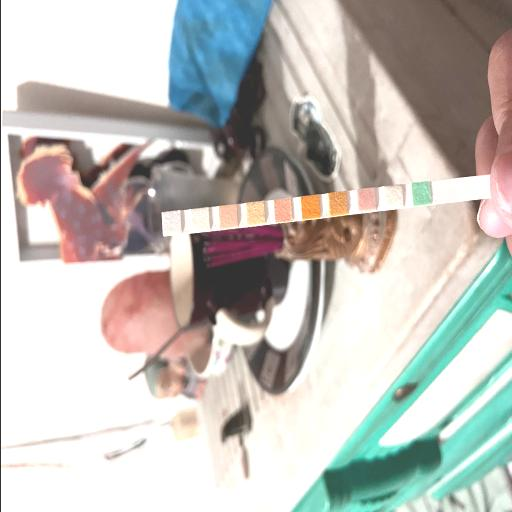Bilirubin: (385, 187, 401, 207)
Blood: (302, 196, 318, 218)
Glucose: (412, 184, 428, 204)
Ketone: (357, 190, 373, 212)
Leukocytes: (163, 212, 179, 234)
Nitrite: (192, 209, 208, 230)
Protein: (247, 203, 263, 225)
SpGravity: (329, 194, 345, 216)
Urobilinogen: (219, 206, 235, 228)
pH: (274, 200, 290, 222)
strip: (161, 175, 490, 236)
